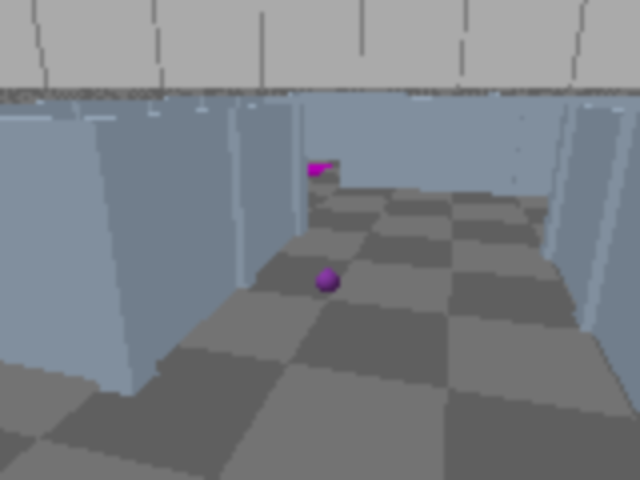puck: (311, 264, 345, 299)
